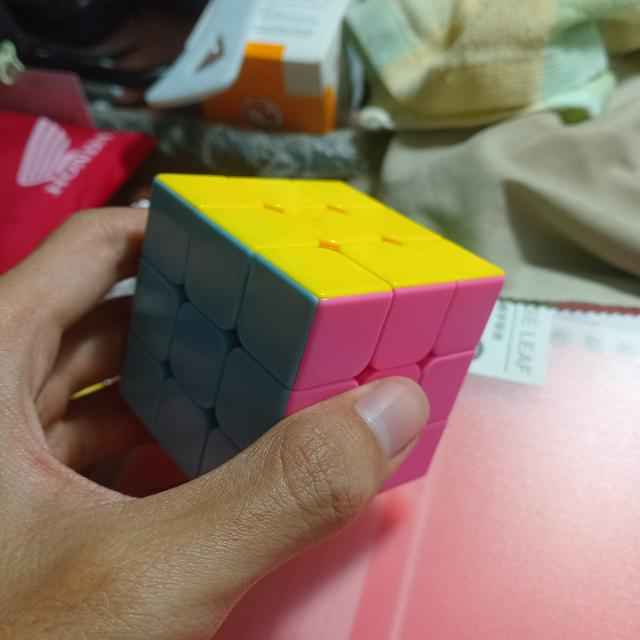back: (119, 178, 319, 481)
down: (157, 174, 503, 299)
right: (284, 275, 505, 494)
rubik: (115, 169, 513, 501)
